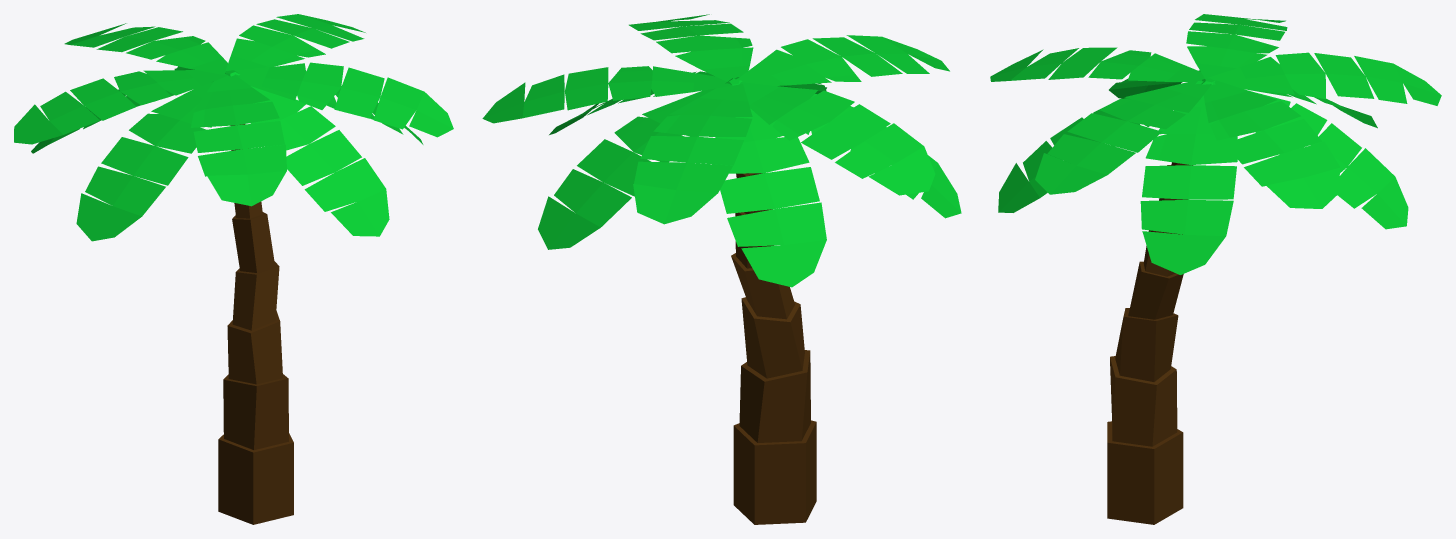
Rendered from coconut.fbx.
3 views of the same model, side by side, from view 1: azimuth 30°, elevation 25°; view 2: azimuth 150°, elevation 25°; view 3: azimuth 270°, elevation 25° (orthographic). The views are drawn at different scales.
Parts seen in each view (by area): view 1: Cylinder; view 2: Cylinder; view 3: Cylinder.
Boxes of the visible parts, box(x1,y1,x2,y2) form: Cylinder: box(14, 14, 453, 524); Cylinder: box(482, 14, 961, 524); Cylinder: box(990, 14, 1441, 524).
Size of the model in its own units: 1085 by 1138 by 1079.
